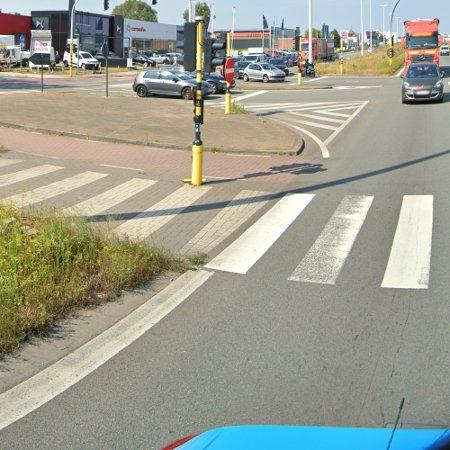crosswalks: (0, 156, 433, 291)
